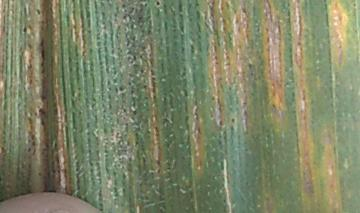tarspot: (32, 6, 45, 18), (21, 23, 29, 37), (129, 106, 138, 118), (151, 1, 164, 9), (216, 118, 226, 127)
